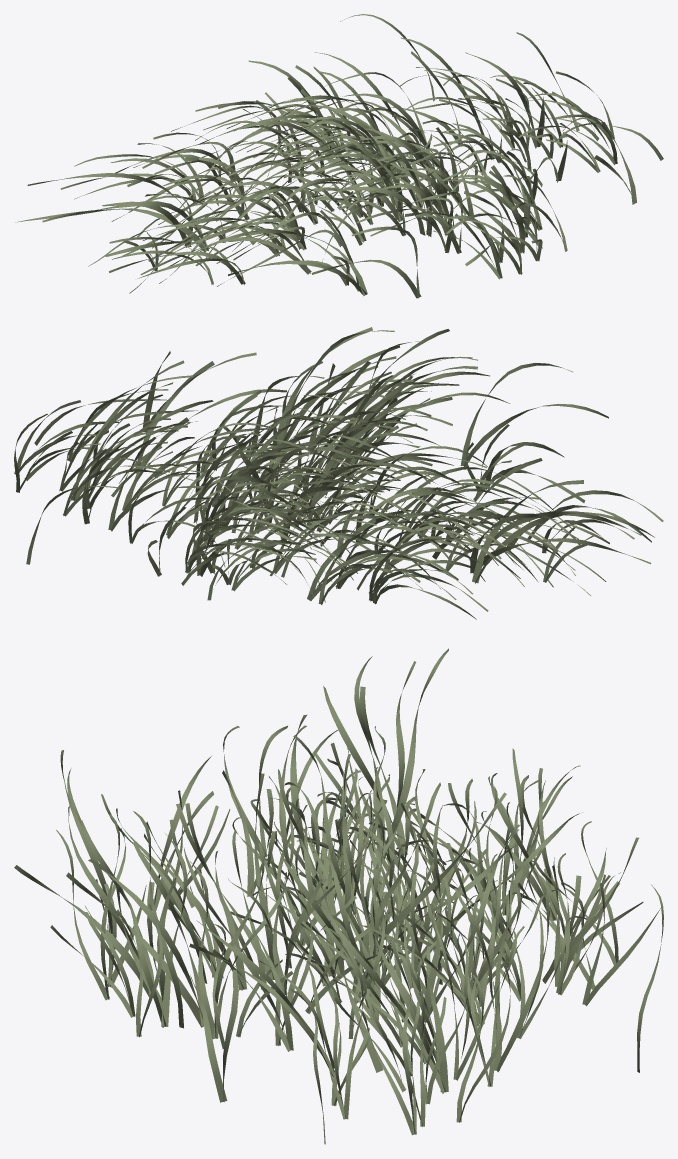
The model's file is GRASS_VARIANT3.fbx.
The picture shows the model from 3 angles, top to bottom: view 1: azimuth 30°, elevation 25°; view 2: azimuth 150°, elevation 25°; view 3: azimuth 270°, elevation 25°; orthographic projection. The views are drawn at different scales.
Parts seen in each view (by area): view 1: grassWindWide4Main; view 2: grassWindWide4Main; view 3: grassWindWide4Main.
Part boxes in pixels (<box>): grassWindWide4Main: <box>15,14,663,298</box>; grassWindWide4Main: <box>14,327,663,619</box>; grassWindWide4Main: <box>14,648,663,1144</box>.
Bounding box in the file's own units: 4.35 × 0.9408 × 2.98.
